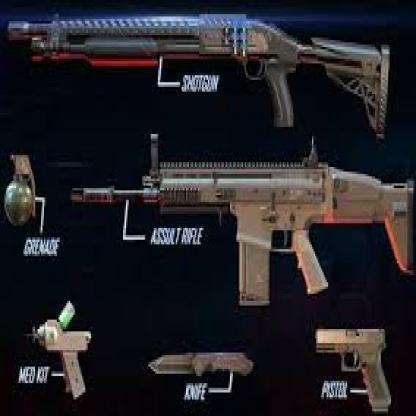Grenade: (3, 152, 37, 231)
Gun: (70, 130, 416, 311), (6, 10, 392, 142)
Knife: (149, 347, 255, 380)
Pistol: (314, 325, 393, 415)
